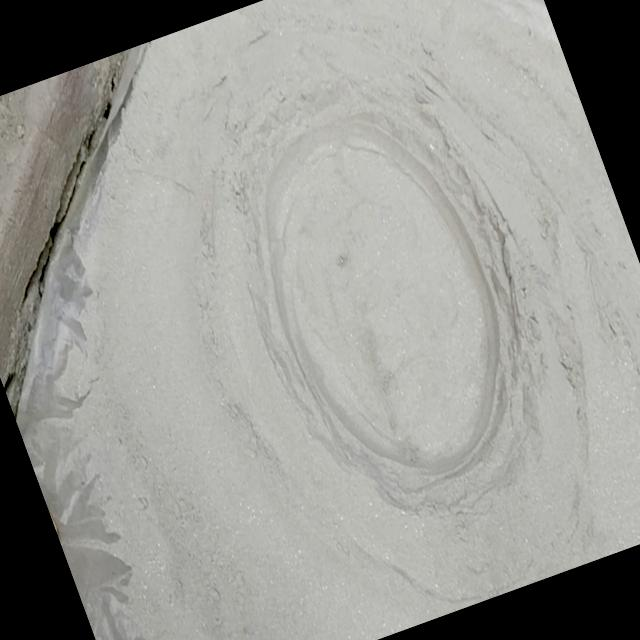C40: (268, 117, 500, 471)
